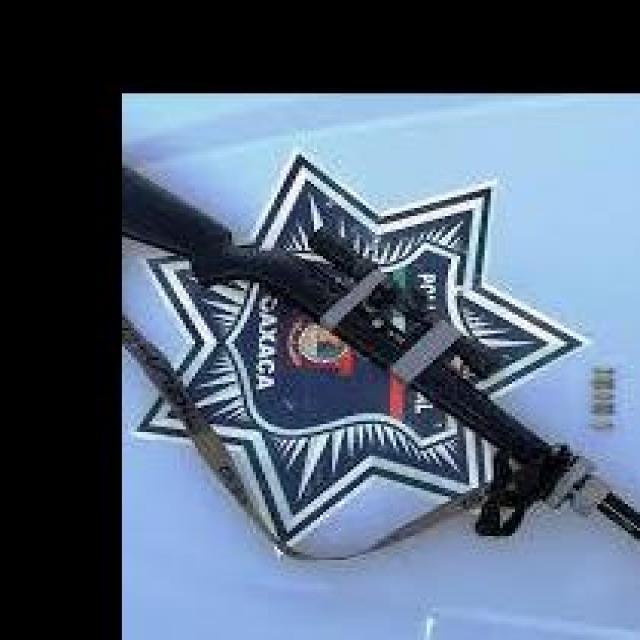weapon: (121, 165, 640, 540)
